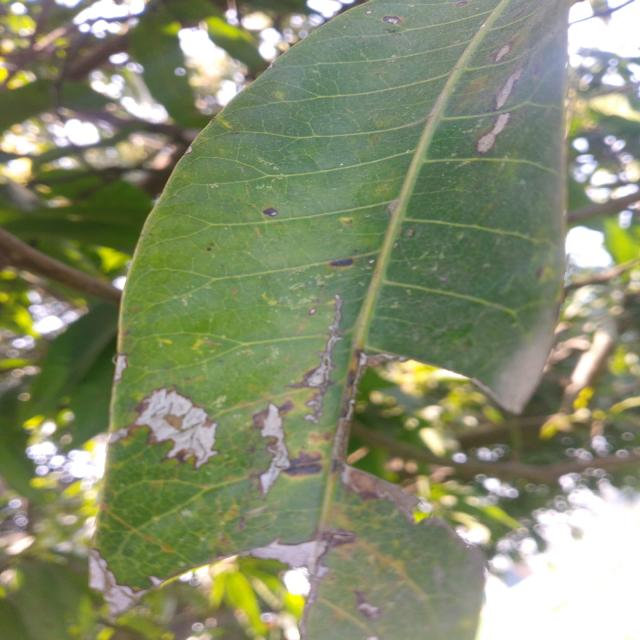Powdery Mildew: (135, 385, 239, 469), (247, 398, 299, 493), (254, 530, 340, 577), (466, 105, 519, 156)
